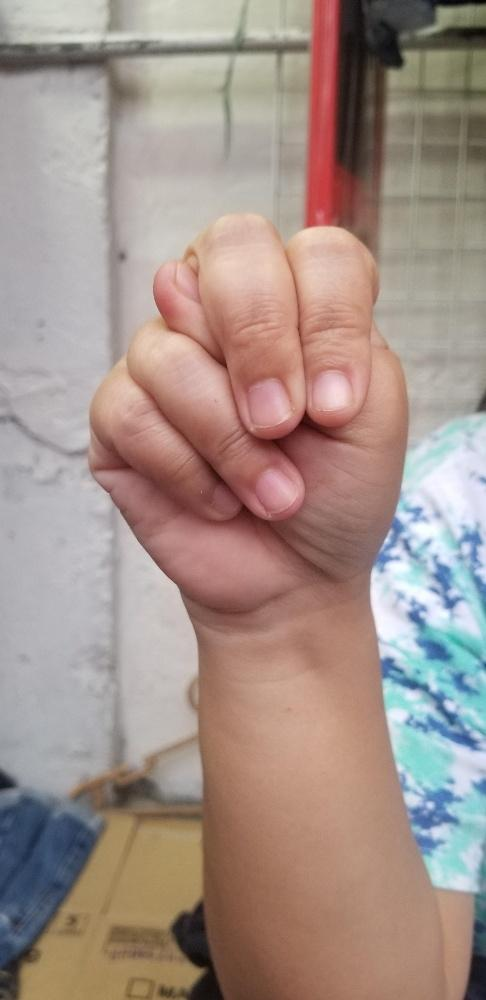n: (85, 209, 405, 611)
